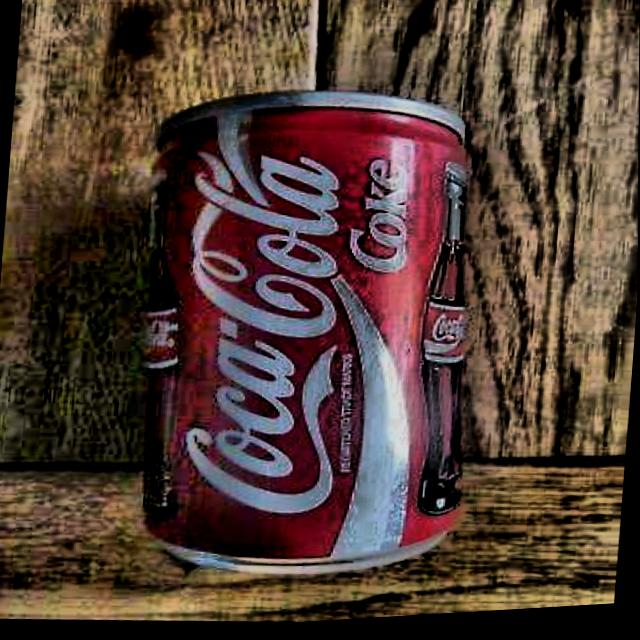Cans: (122, 64, 507, 594)
